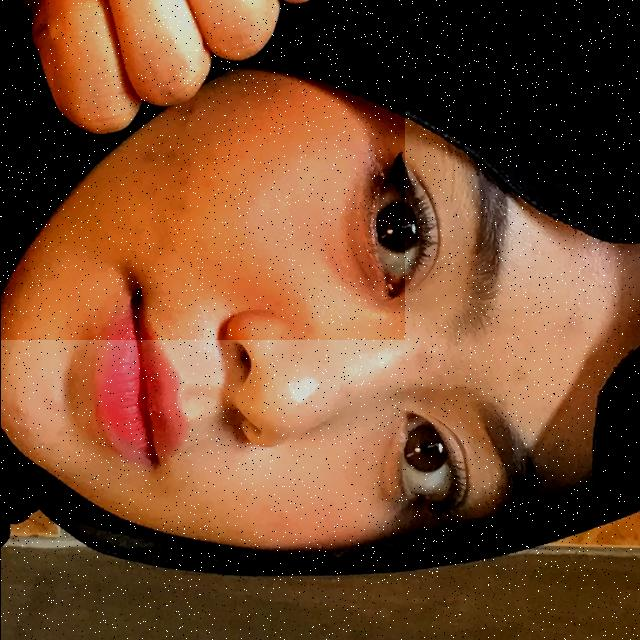sedih: (0, 0, 404, 340)
